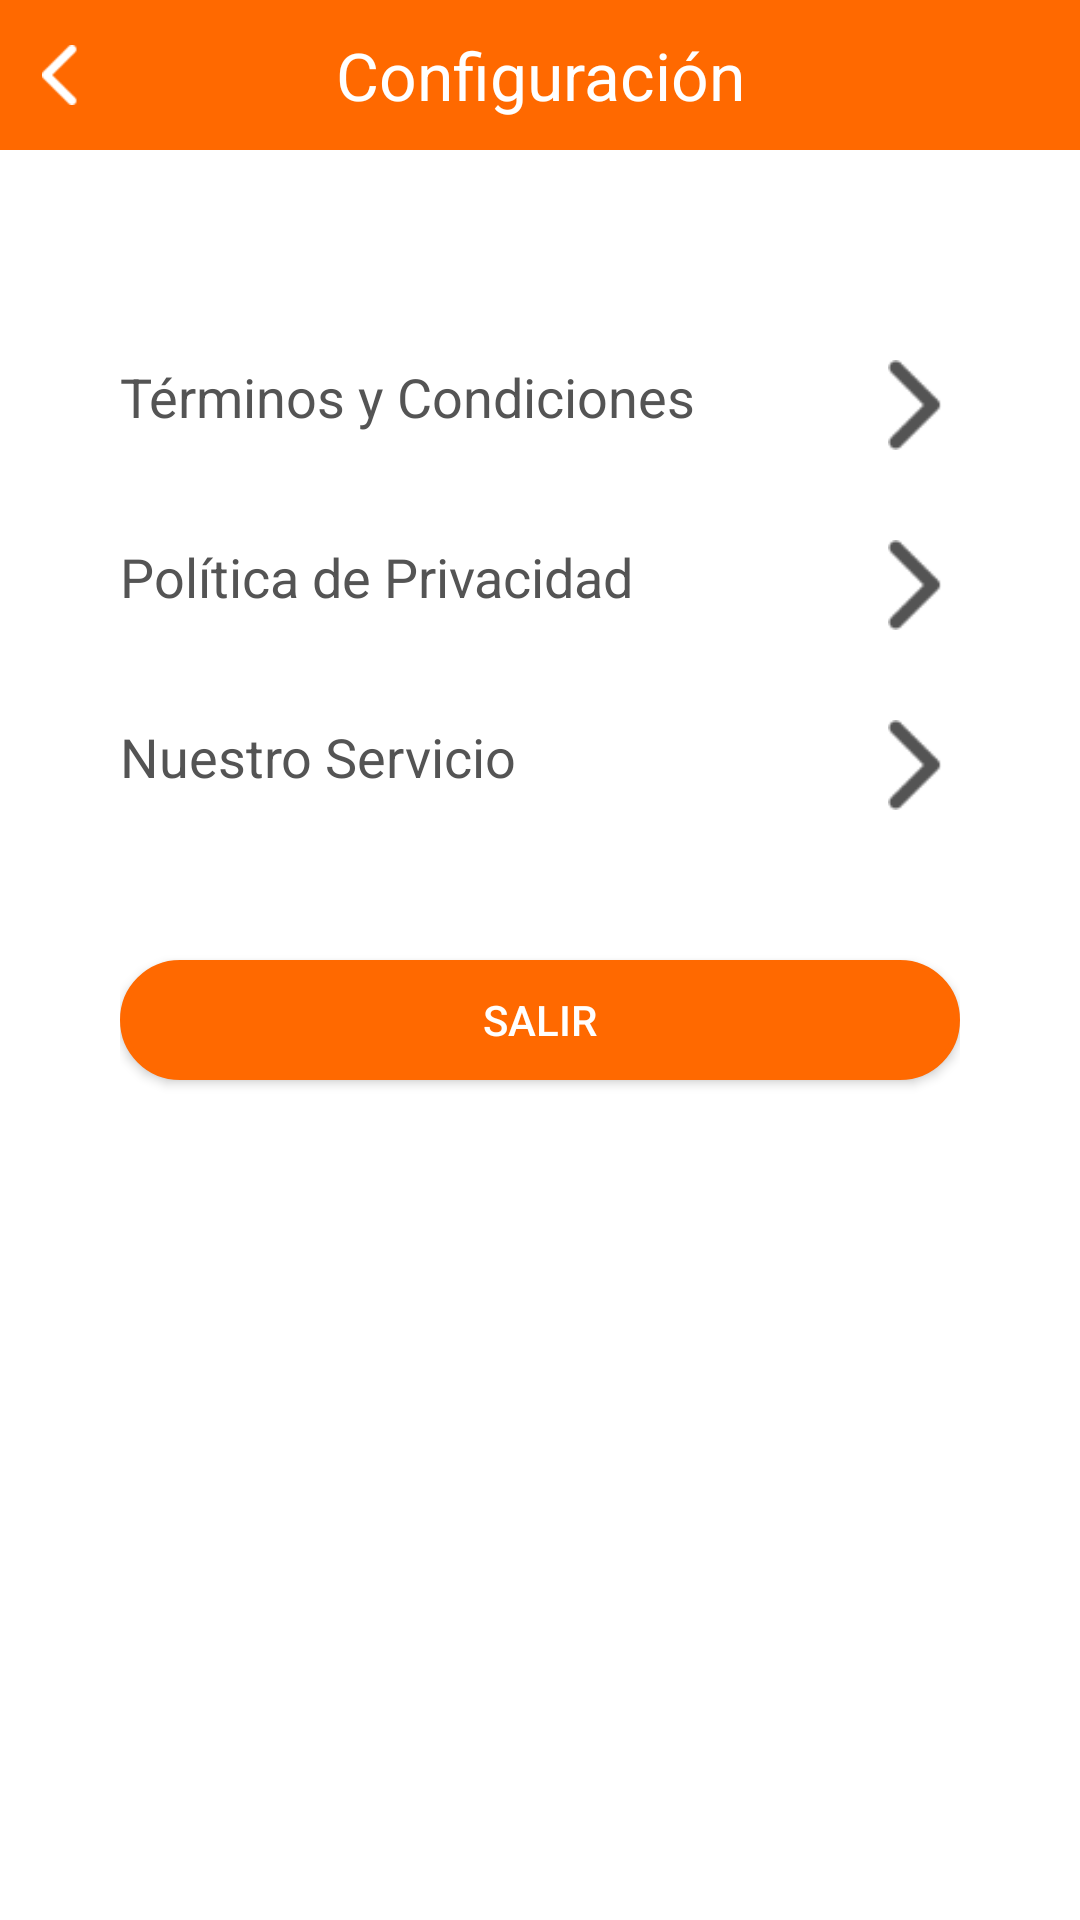

Icon click points for this 1080w x 1920h phone screenshot, format point (x, y):
arrow right: point (914, 405), point (914, 585), point (914, 765)
back: point (59, 75)
